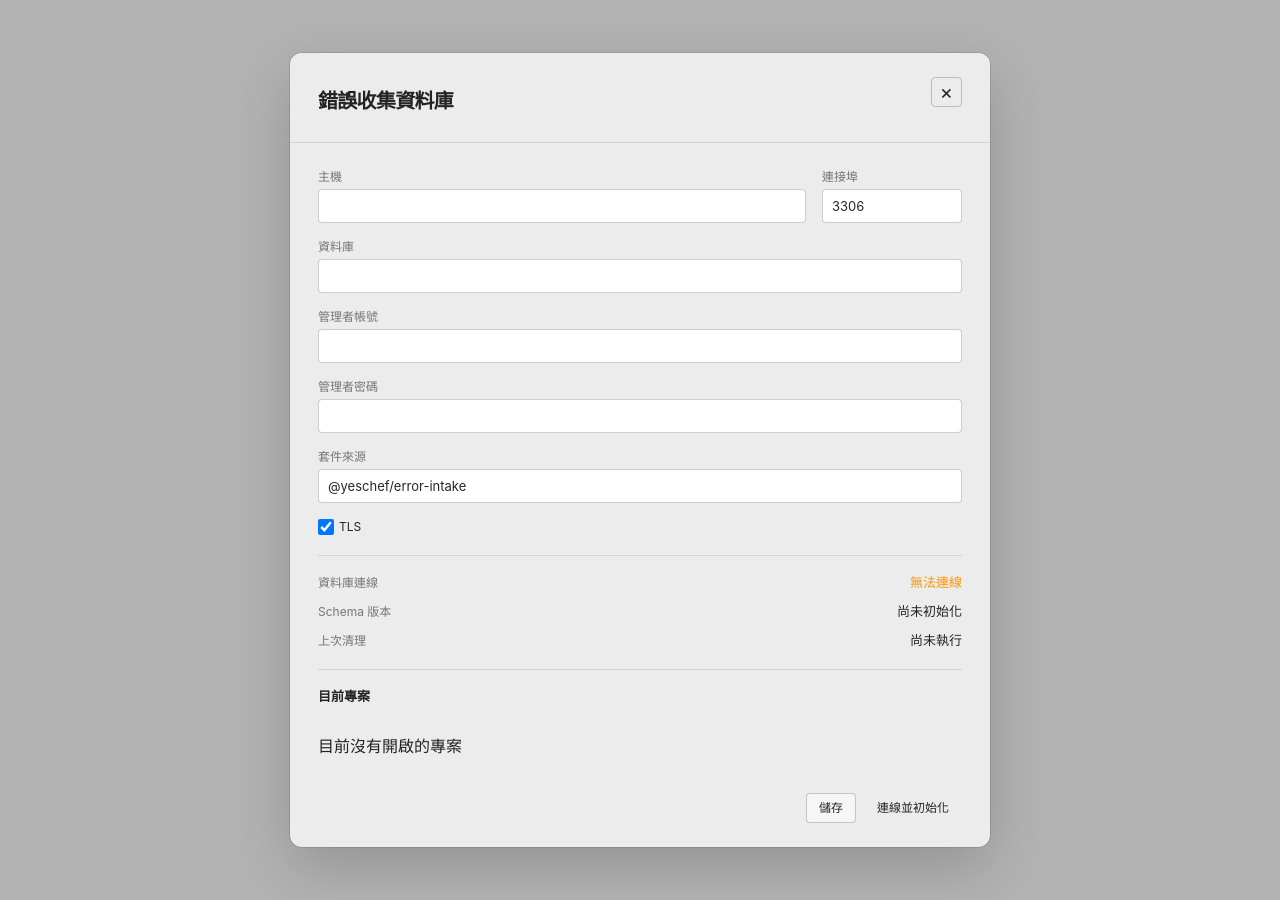
Test case: 連線並初始化前保存新設定，接著顯示初始化後狀態
The image size is (1280, 900).
Expected: the dialog "錯誤收集資料庫" is shown, [290,53,990,847]
Type "secret" into the password field labelled "管理者密碼". click: (640, 416)
box: [318,399,962,433]
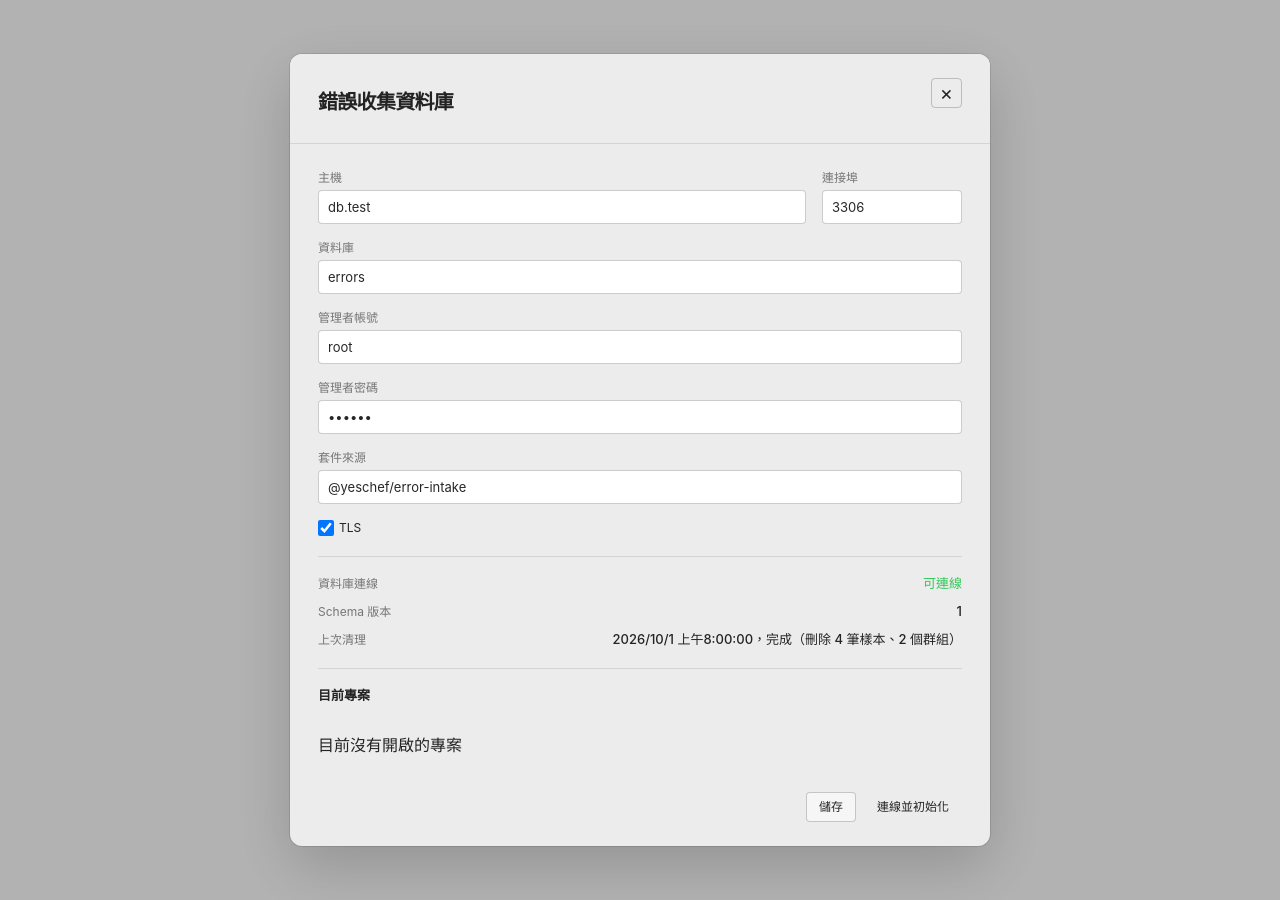
Click the button "連線並初始化". click: (913, 807)
box: [864,792,962,822]
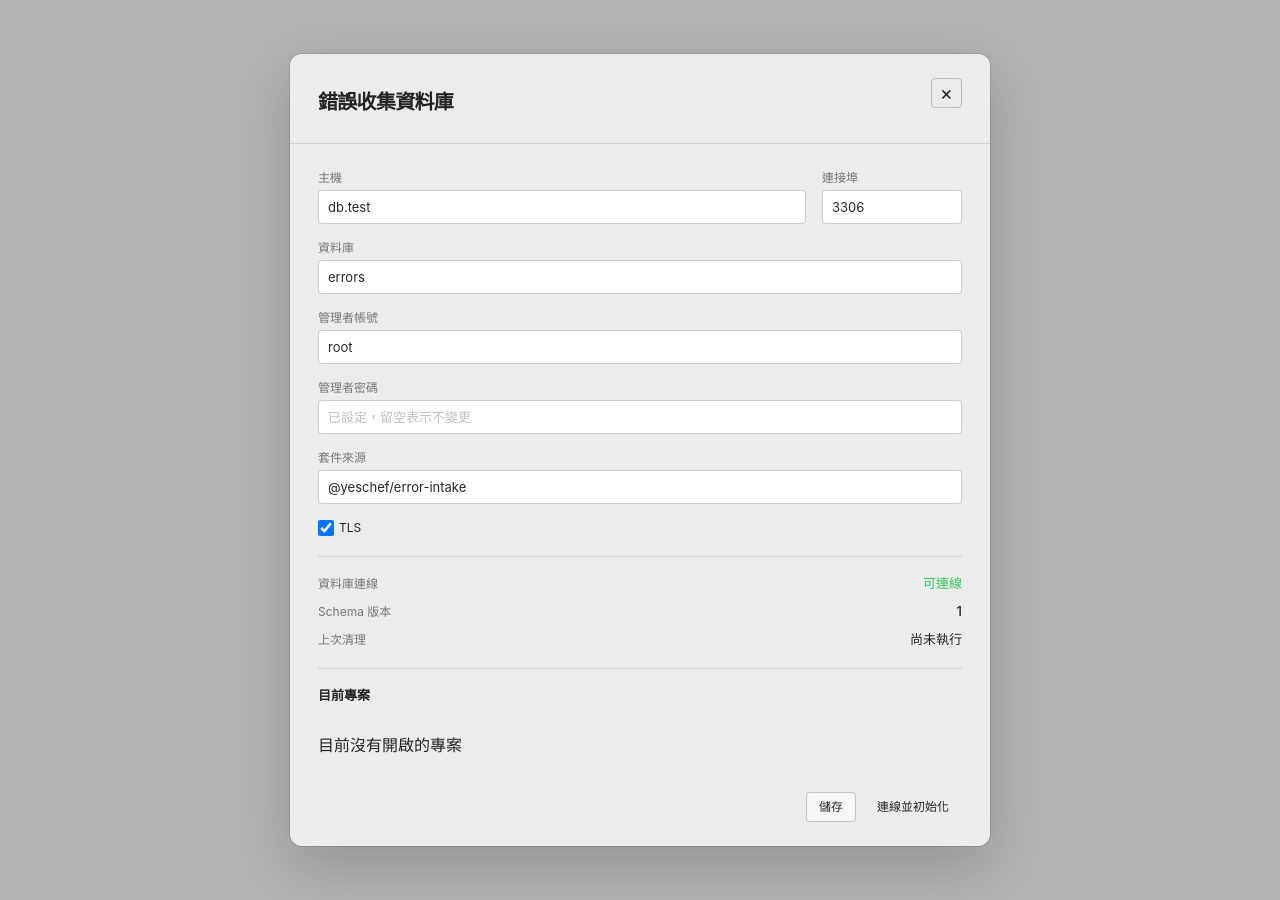
Expected: the text "尚未執行" is shown, [910,629,962,648]
